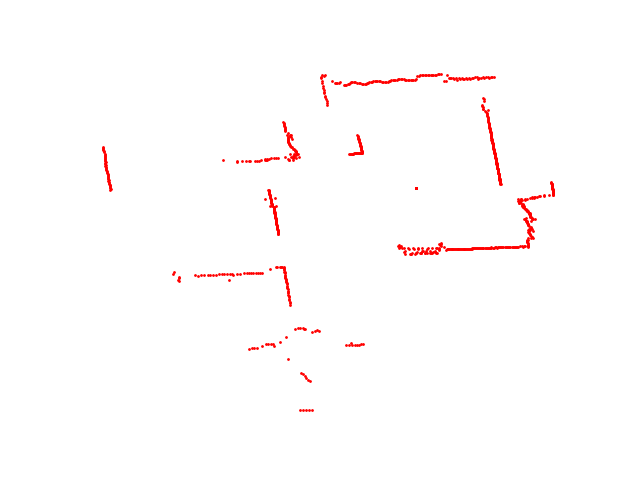person: (292, 325, 323, 336)
